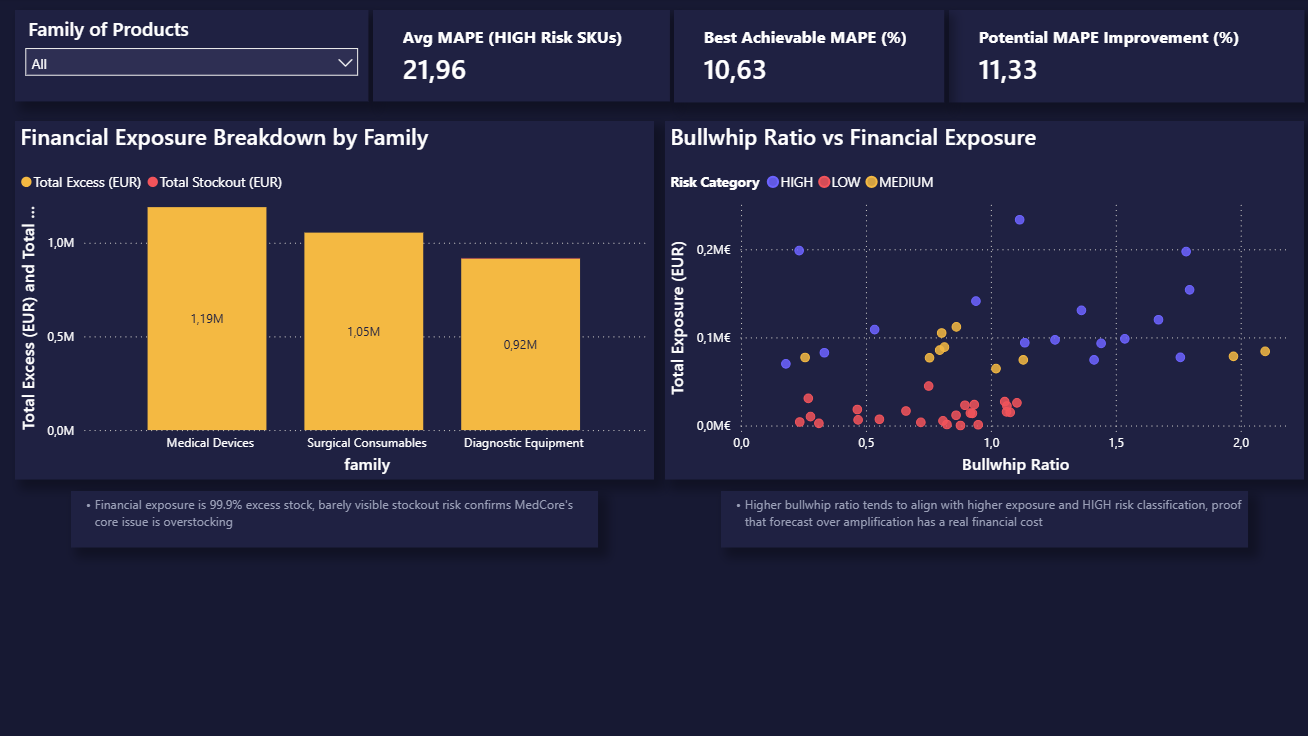

What the dashboard file says about the page in this screenshot:
{"tool":"powerbi","page":{"name":"Financial Dashboard","canvas":[1280,720],"ordinal":3},"visuals":[{"type":"slicer","fields":{"Values":["product_master.Family"]},"box":[17.5,11.6,344.3,89.5],"z":1},{"type":"cardVisual","fields":{"Data":["financial_impact.Potential MAPE Improvement"]},"box":[926.7,11.6,345.6,89.6],"z":2},{"type":"cardVisual","fields":{"Data":["financial_impact.Avg MAPE (HIGH Risk SKUs)"]},"box":[366.2,11.6,288.9,89.5],"z":4},{"type":"cardVisual","fields":{"Data":["financial_impact.Best Achievable MAPE"]},"box":[659.5,11.6,262.8,89.6],"z":5},{"type":"columnChart","title":"Financial Exposure Breakdown by Family","fields":{"Category":["financial_summary_by_family.family"],"Y":["Sum(financial_summary_by_family.total_excess_eur)","Sum(financial_summary_by_family.total_stockout_eur)"]},"box":[17.5,119.6,622.5,349.2],"z":6},{"type":"scatterChart","title":"Bullwhip Ratio vs Financial Exposure","fields":{"X":["Sum(financial_impact.bullwhip_ratio)"],"Y":["Sum(financial_impact.total_exposure_eur)"],"Series":["financial_impact.risk_category"],"Category":["financial_impact.sku_id"]},"box":[650.2,119.7,622,349.4],"z":7},{"type":"textbox","box":[72,479.9,513,54.5],"z":8},{"type":"textbox","box":[704.7,479.9,513,54.5],"z":9}]}

Visuals, with their boxes in screenshot pixels (x1, y1, x2, y2), scaled from the page's 1280x720 canvas onto the 1308x736 screenshot:
slicer - product_master.Family: left=18, top=12, right=370, bottom=103
cardVisual - financial_impact.Potential MAPE Improvement: left=947, top=12, right=1300, bottom=103
cardVisual - financial_impact.Avg MAPE (HIGH Risk SKUs): left=374, top=12, right=669, bottom=103
cardVisual - financial_impact.Best Achievable MAPE: left=674, top=12, right=942, bottom=103
"Financial Exposure Breakdown by Family" columnChart: left=18, top=122, right=654, bottom=479
"Bullwhip Ratio vs Financial Exposure" scatterChart: left=664, top=122, right=1300, bottom=480
textbox: left=74, top=491, right=598, bottom=546
textbox: left=720, top=491, right=1244, bottom=546
